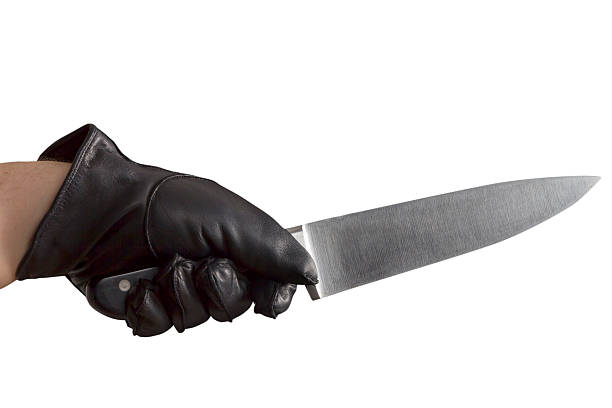knife: (284, 173, 603, 302)
